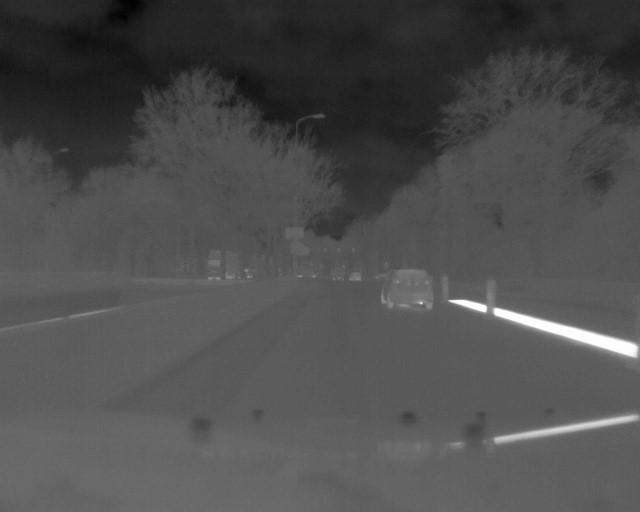car: (380, 265, 436, 314)
